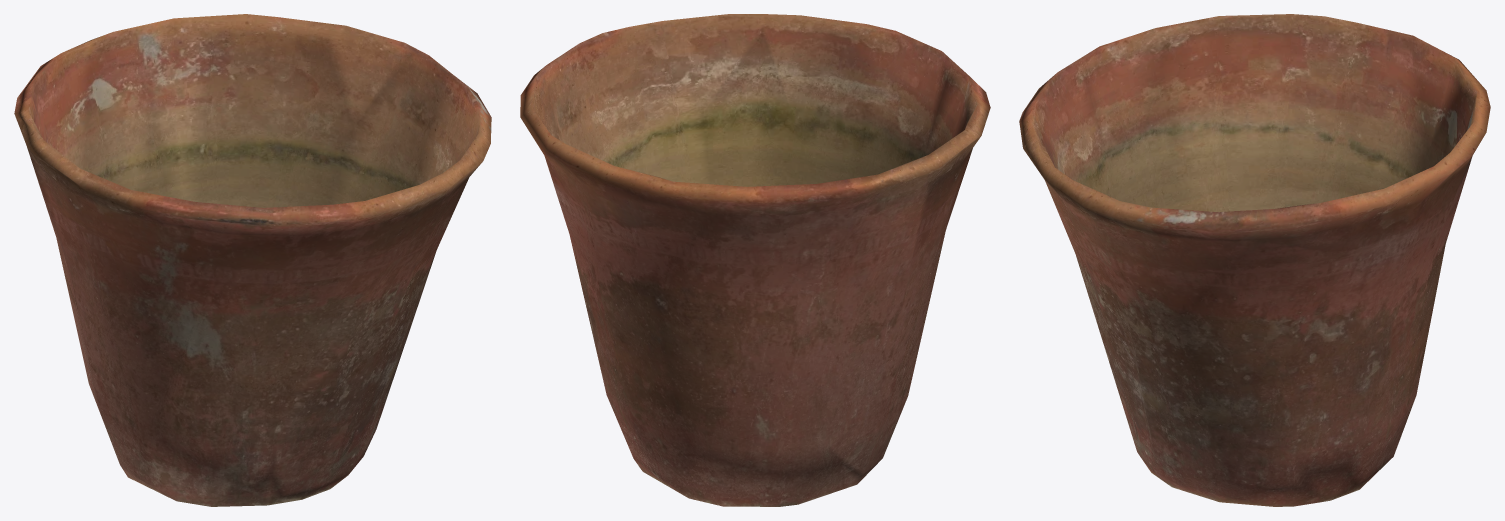
The model's file is pot.glb.
The picture shows the model from 3 angles, left to right: view 1: azimuth 30°, elevation 25°; view 2: azimuth 150°, elevation 25°; view 3: azimuth 270°, elevation 25°; orthographic projection.
Visible parts, largest first — view 1: planter_pot_clay; view 2: planter_pot_clay; view 3: planter_pot_clay.
Boxes of the visible parts, bbox=[...] form: planter_pot_clay: bbox=[14, 14, 491, 506]; planter_pot_clay: bbox=[520, 14, 990, 506]; planter_pot_clay: bbox=[1019, 14, 1490, 506].
Bounding box in the file's own units: 0.2637 × 0.2218 × 0.2635.
1 material, 1 textured.
